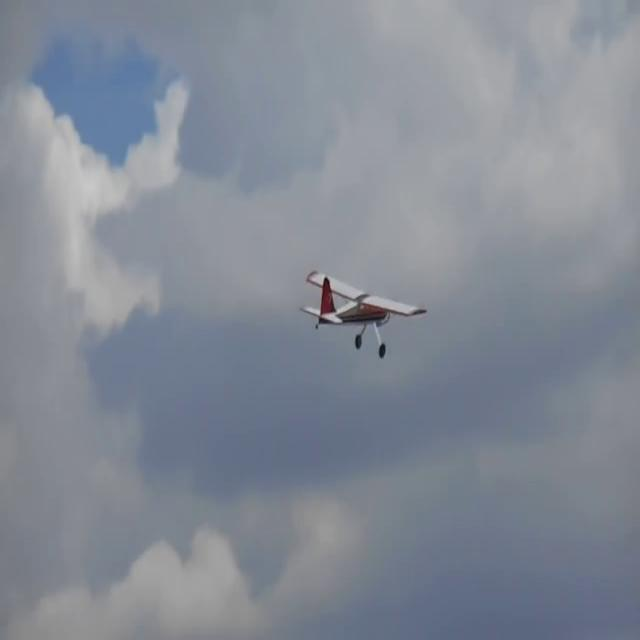iha: (333, 301, 397, 327)
